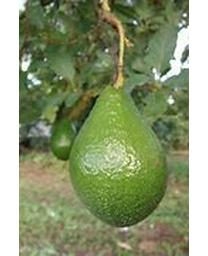avocado: (69, 84, 169, 228)
